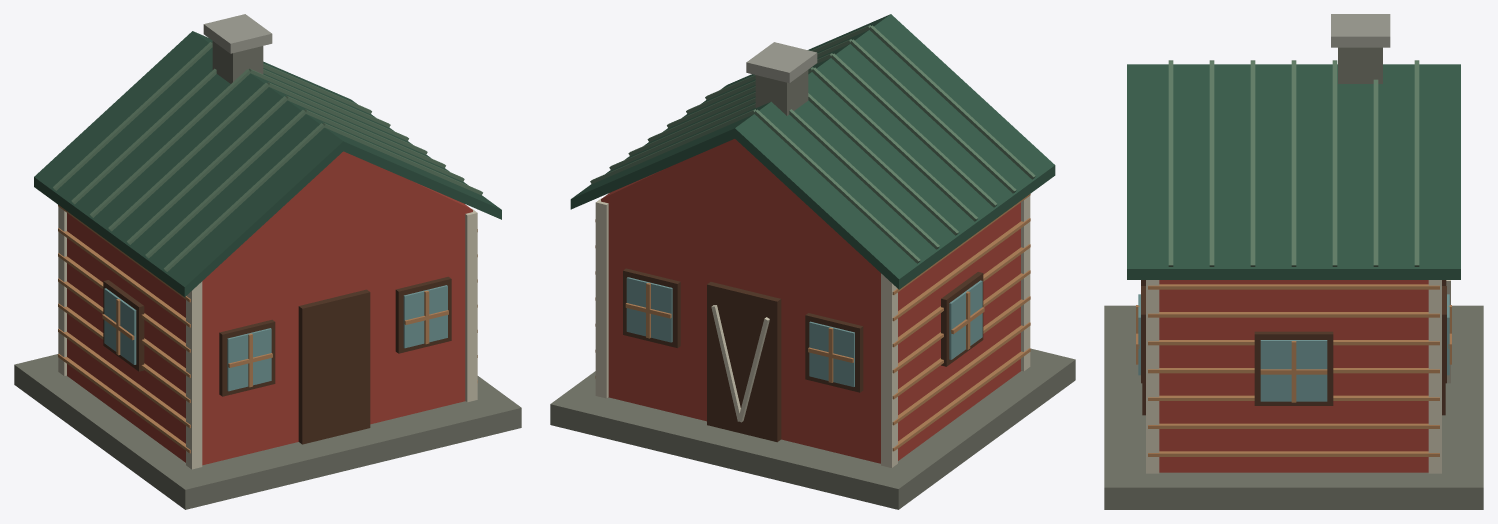
Rendered from Backyard_Shed_Standard.glb.
The picture shows the model from 3 angles, left to right: view 1: azimuth 30°, elevation 25°; view 2: azimuth 150°, elevation 25°; view 3: azimuth 270°, elevation 25°; orthographic projection. The views are drawn at different scales.
Parts seen in each view (by area): view 1: Backyard_Shed_Standard; view 2: Backyard_Shed_Standard; view 3: Backyard_Shed_Standard.
Part boxes in pixels (<box>): Backyard_Shed_Standard: <box>14,14,521,509</box>; Backyard_Shed_Standard: <box>550,14,1075,509</box>; Backyard_Shed_Standard: <box>1104,14,1483,509</box>.
Bounding box in the file's own units: 4.2 × 4.24 × 3.7.
